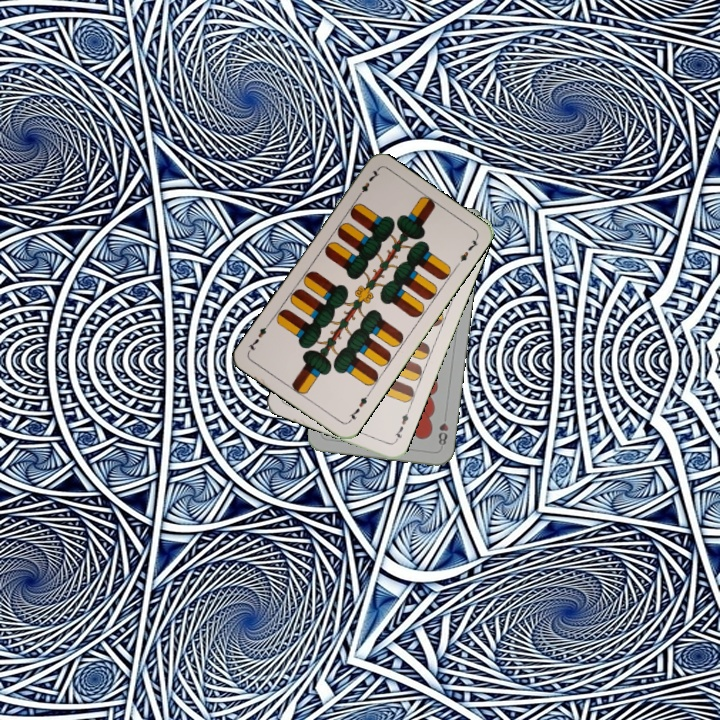E7: (353, 166, 382, 201), (344, 389, 372, 425), (390, 406, 412, 445)
H8: (434, 419, 451, 450)
